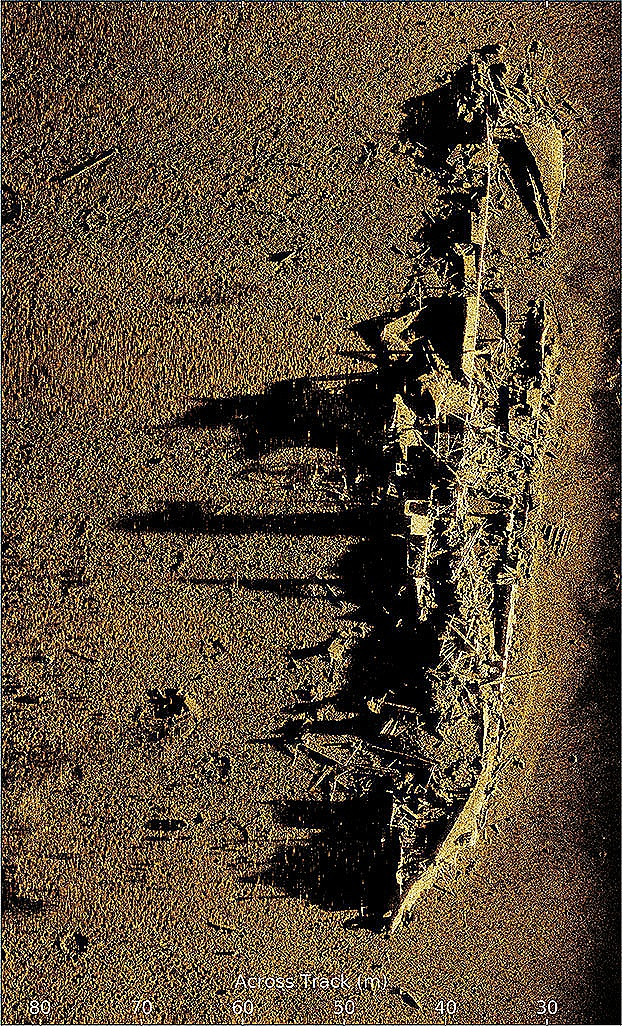ship: (364, 43, 569, 943)
